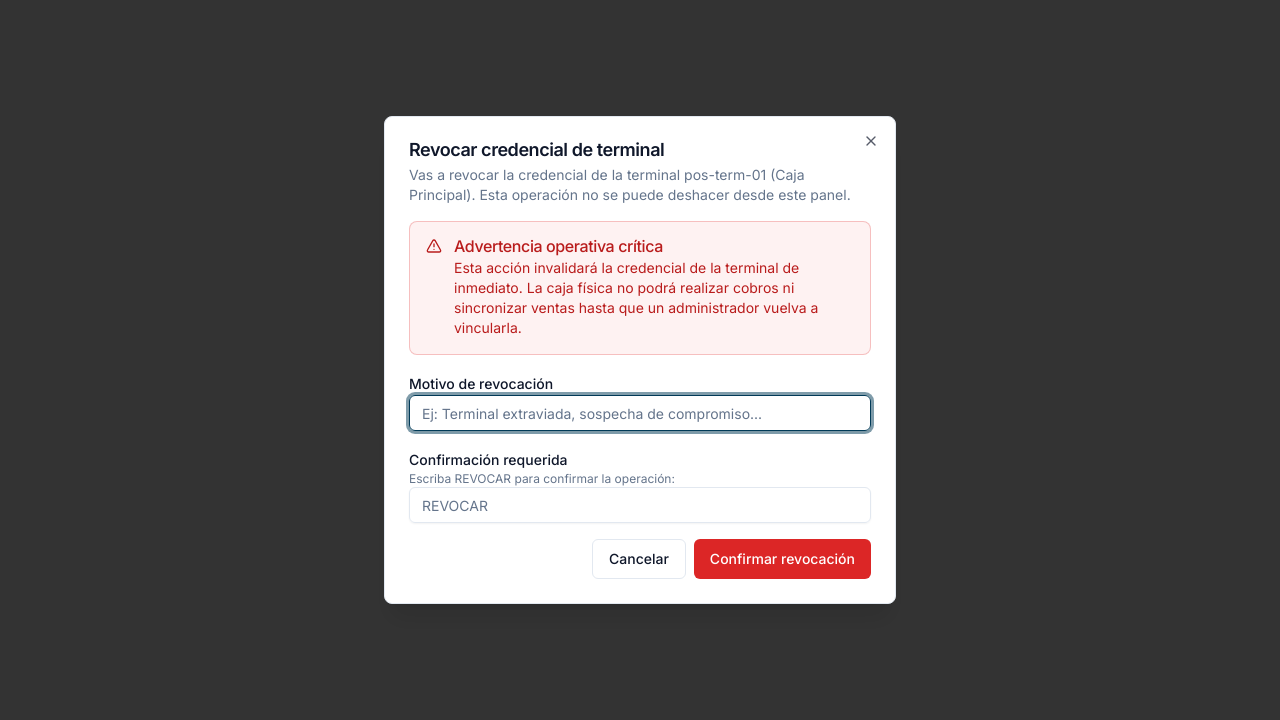
it: RevokeDeviceModal — form sanitization › rejects an empty reason with the Spanish literal error
Click the button "Confirmar revocación": (782, 559) [694, 539, 871, 579]
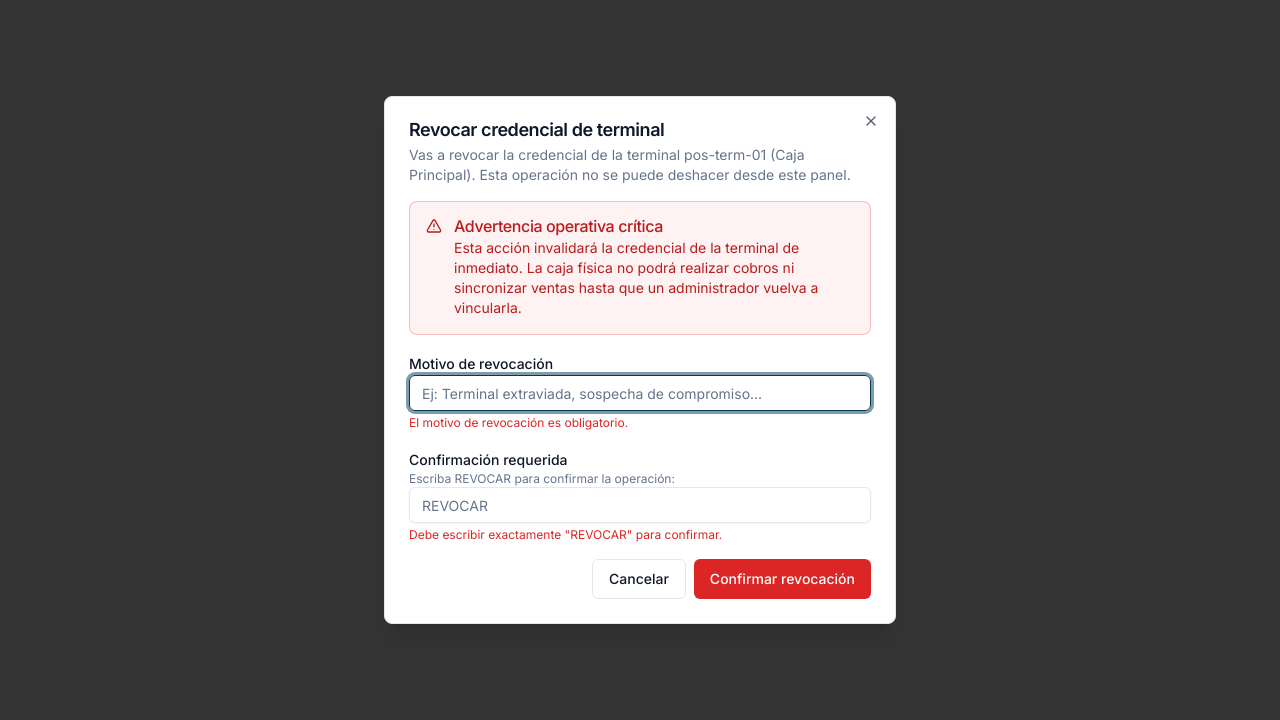
Now the text "El motivo de revocación es obligatorio." is shown, box [409, 415, 628, 430]
